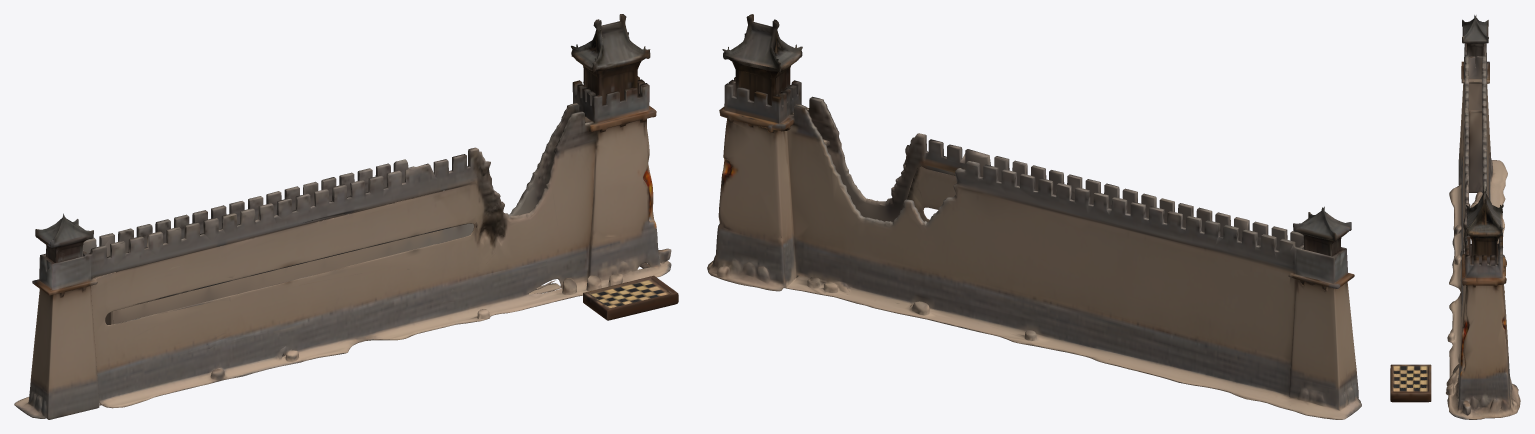
Rendered from wall-long-hy3-v1.glb.
3 views of the same model, side by side, from view 1: azimuth 30°, elevation 25°; view 2: azimuth 150°, elevation 25°; view 3: azimuth 270°, elevation 25° (orthographic). The views are drawn at different scales.
Visible parts, largest first — view 1: node_0; view 2: node_0; view 3: node_0.
Boxes of the visible parts, x1,y1,x2,y2 form: node_0: [14, 14, 678, 419]; node_0: [707, 14, 1361, 419]; node_0: [1390, 15, 1520, 419].
Size of the model in its own units: 8.5 by 3.2 by 1.8.
1 material, 1 textured.
